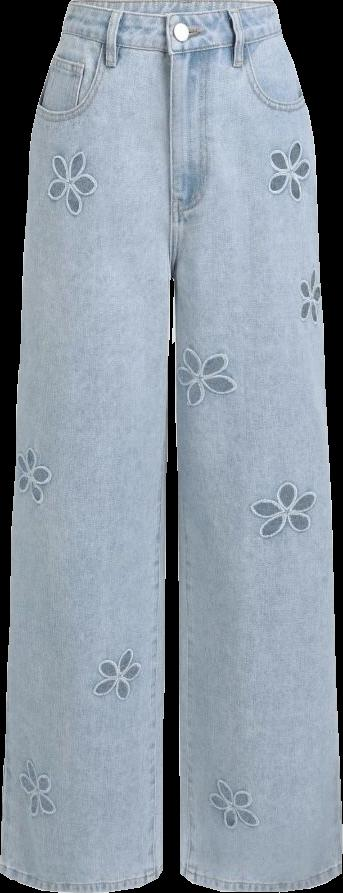Hemline: (0, 866, 162, 892), (180, 869, 342, 892)
Pantleg: (166, 0, 341, 890), (0, 0, 169, 892)
Waistline: (60, 27, 286, 54), (66, 0, 275, 22)
